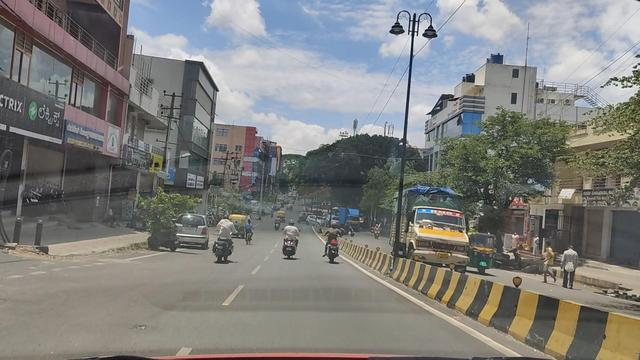LMV: (195, 215, 238, 269), (277, 215, 304, 267), (320, 219, 343, 269)
RoadDamages: (119, 320, 157, 337)
